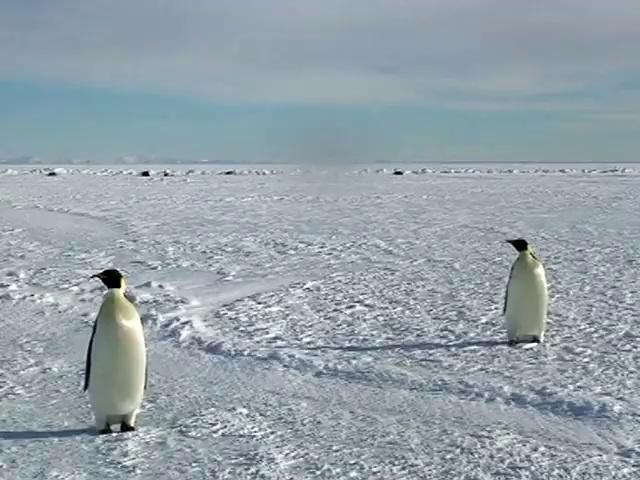animal: (84, 269, 145, 433)
